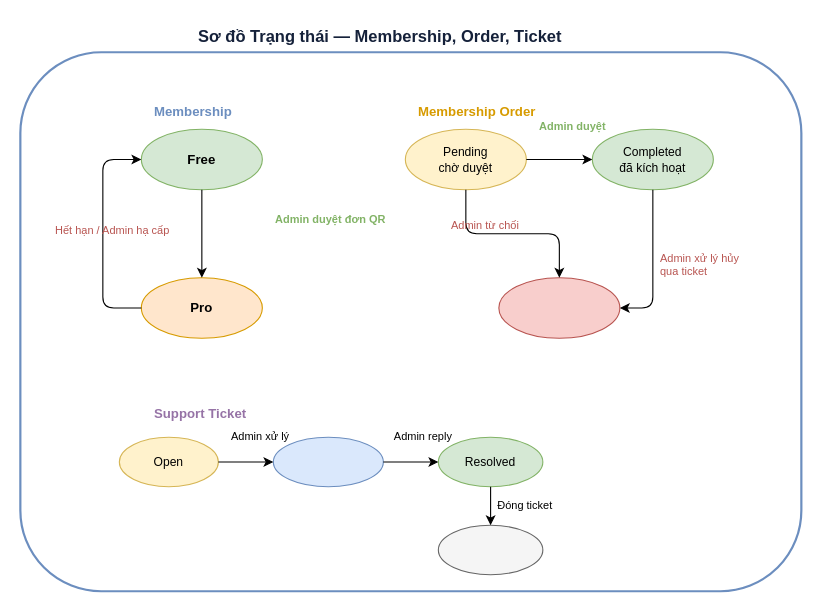
Some shapes in this 821 by 611 pixel diagram are drawn without their labels. The shapes that lost their labels are listed below. From the top down, each one's centre as x and y in pixels, then its label:
the point at 559,307: Cancelled đã hủy
the point at 327,461: In Progress
the point at 490,549: Closed
